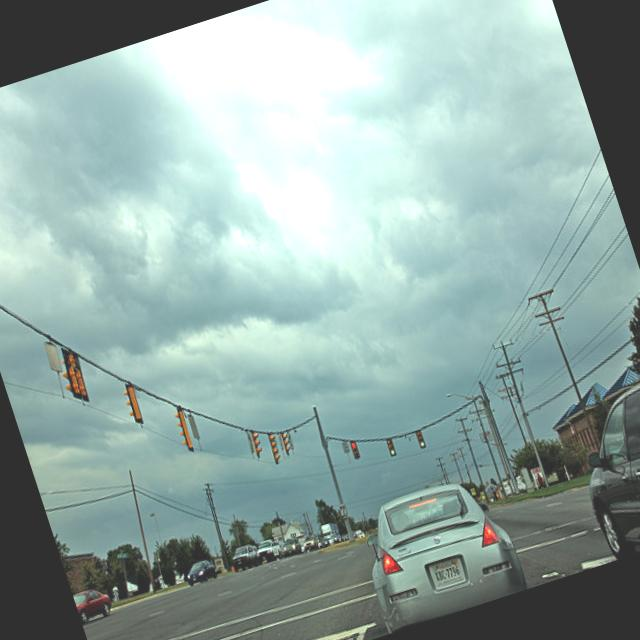Vehicle: (348, 471, 532, 635), (557, 363, 640, 562), (72, 582, 116, 623), (182, 558, 218, 588), (228, 542, 260, 574), (254, 536, 285, 566), (320, 522, 342, 546), (282, 536, 304, 556), (302, 534, 320, 554), (318, 537, 330, 548), (341, 534, 350, 542)
